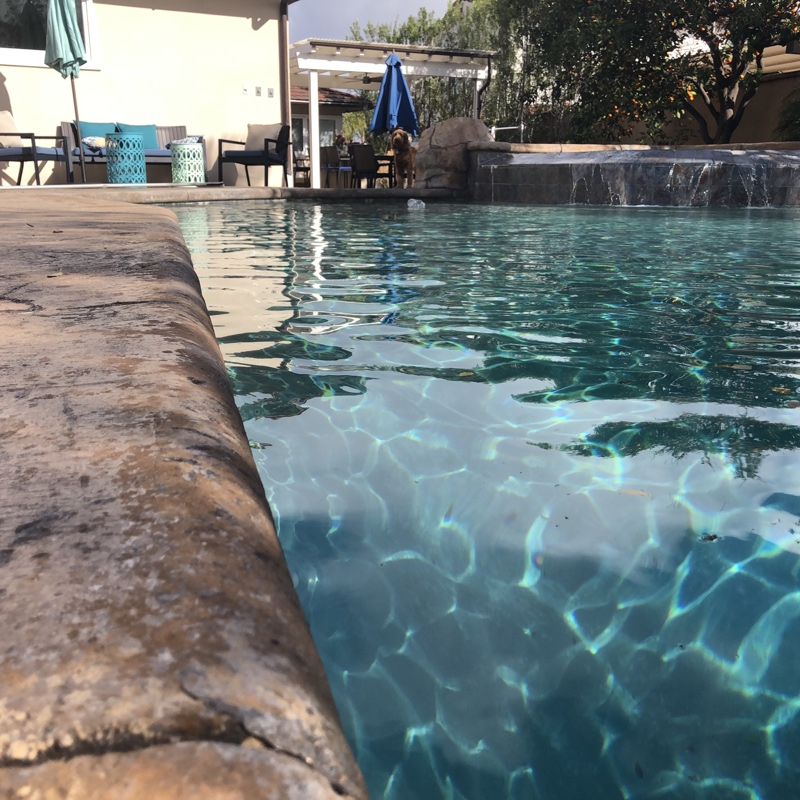Plastic Bottle: (404, 193, 425, 212)
